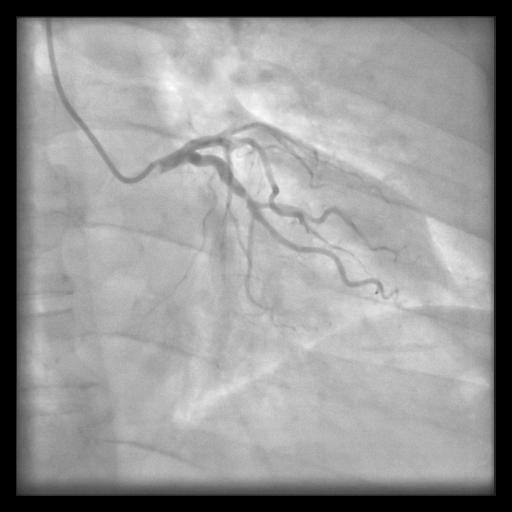Stenosis: (241, 185, 251, 208)
